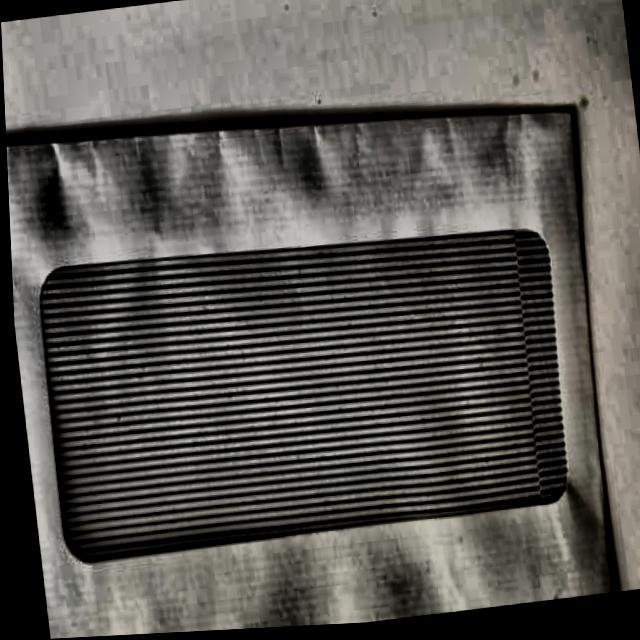Paper: (3, 63, 629, 640)
